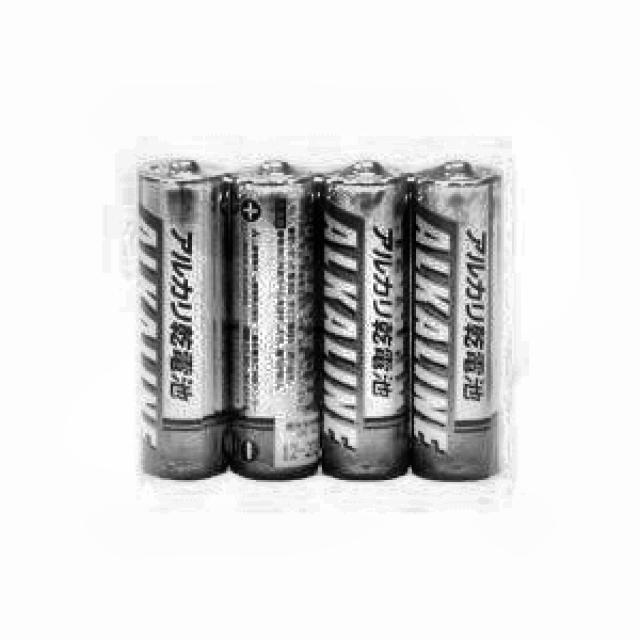drycell: (136, 148, 231, 491), (224, 156, 317, 489)
